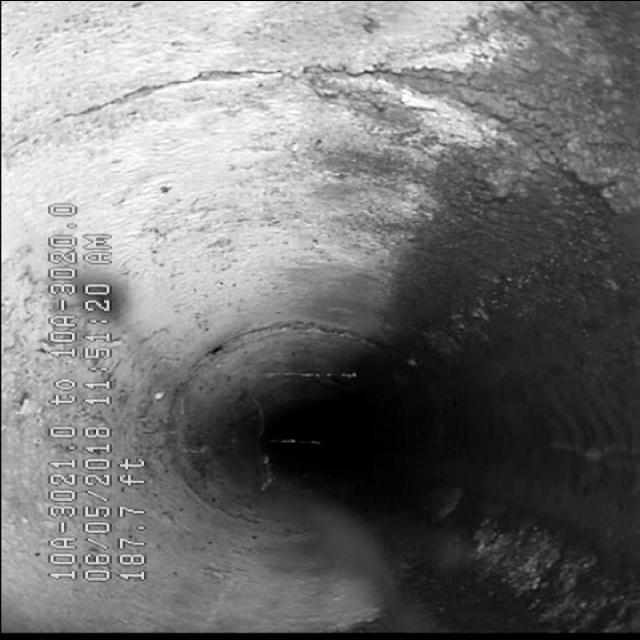Crack: (30, 23, 438, 154)
